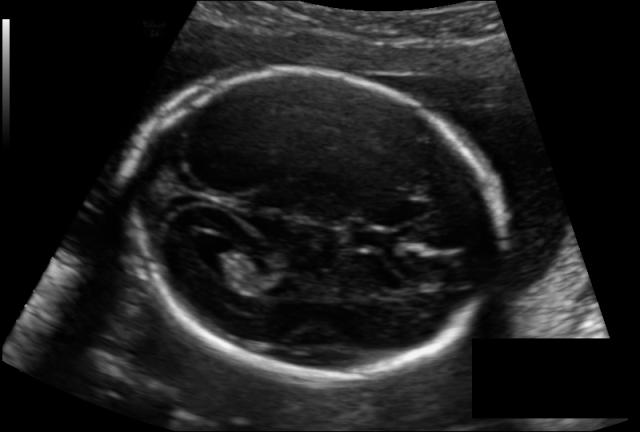CHOROID_PLEXUS: (204, 222, 299, 293)
CSP: (370, 203, 464, 288)
MIDLINE_FALX: (107, 155, 515, 267)
